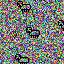sheep: (17, 1, 31, 12), (26, 27, 40, 38), (15, 54, 30, 64), (58, 20, 64, 31)
